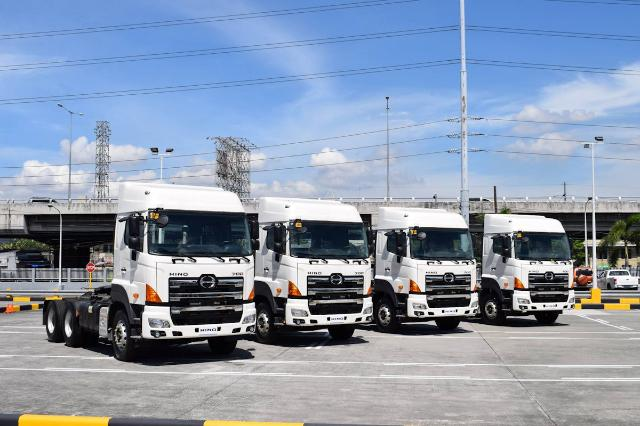truck: (43, 181, 255, 357), (249, 194, 375, 340), (372, 208, 476, 332), (478, 213, 579, 323)
